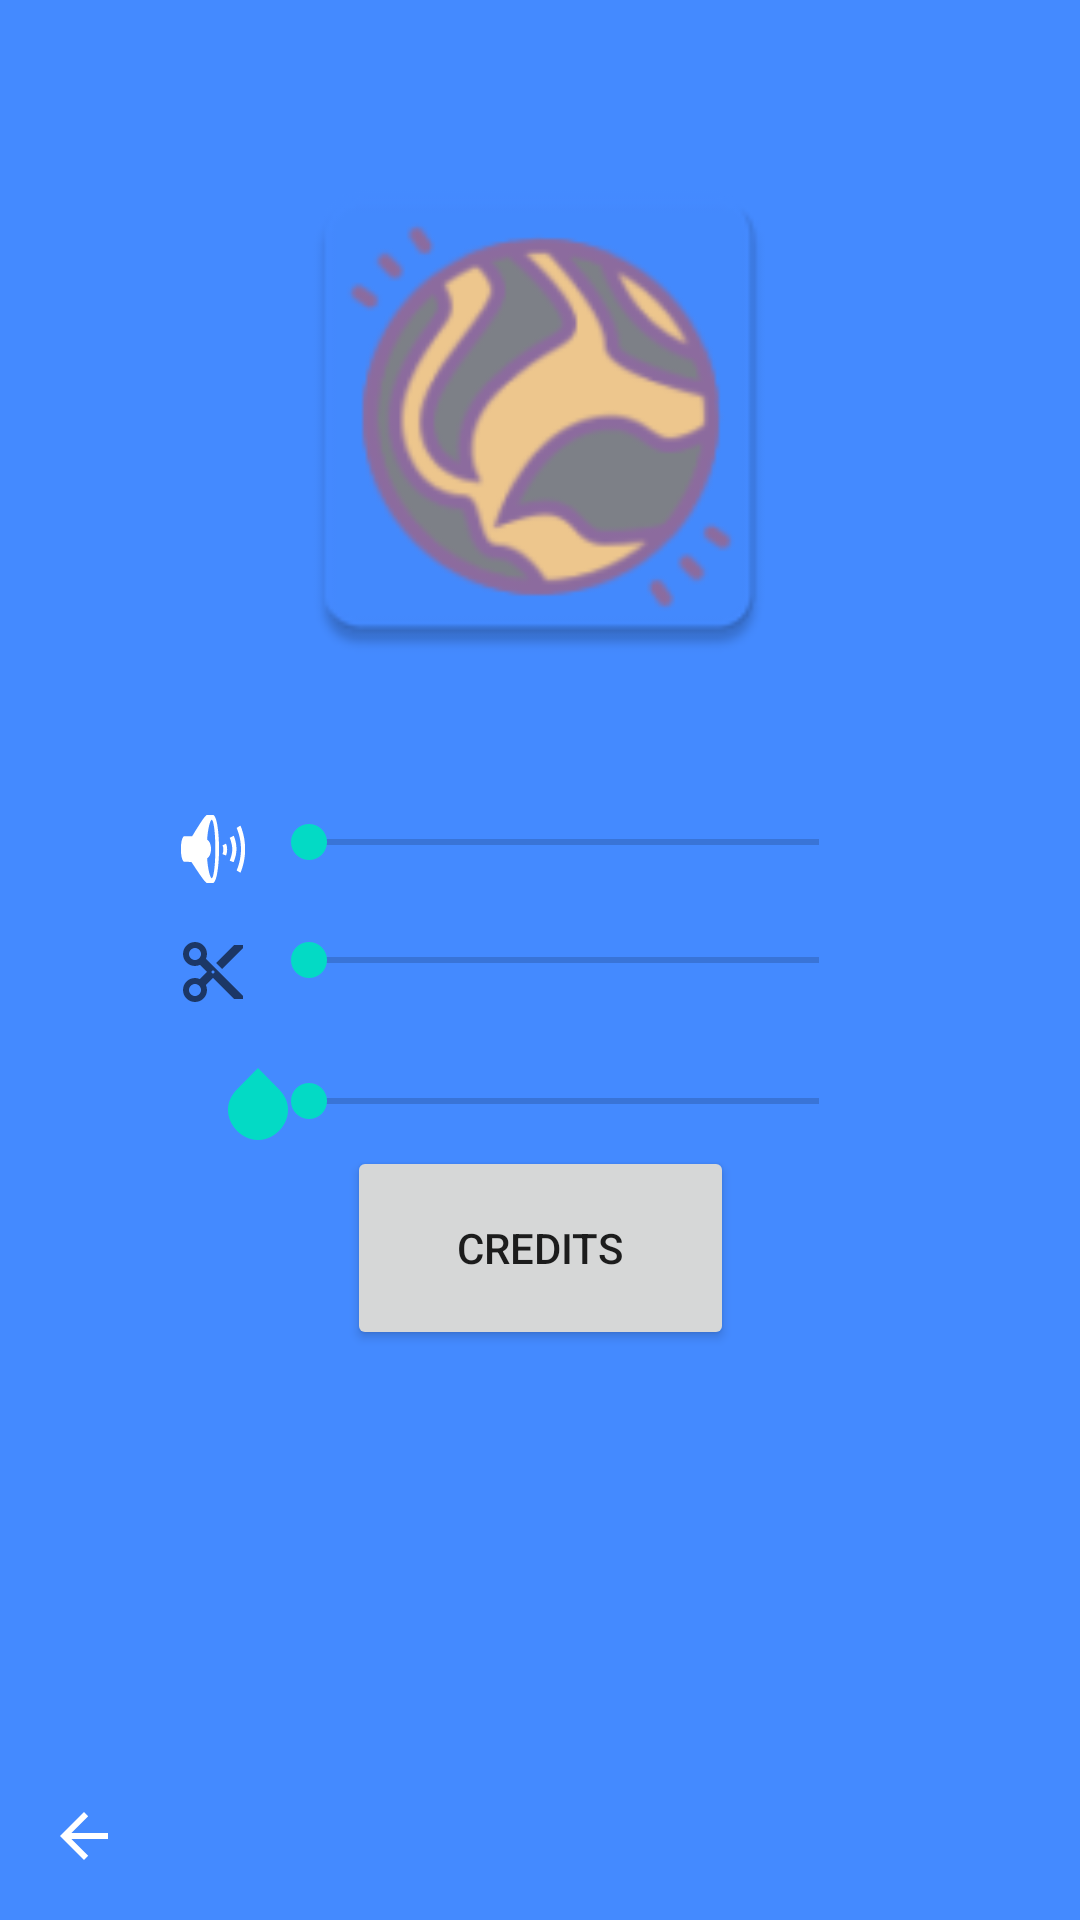

Where icons sit on this 1080px x 1920px app screen, as (x1, y1, x2, y2):
lock silent mode off: (181, 815, 245, 883)
